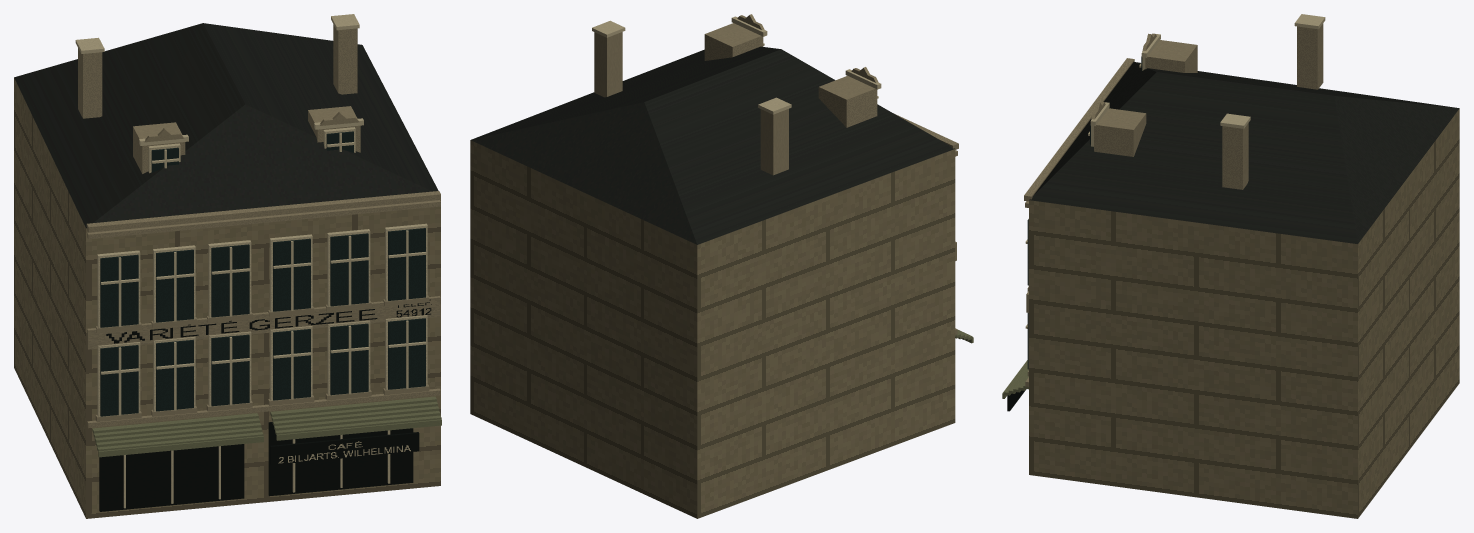
The picture shows the model from 3 angles, left to right: view 1: azimuth 30°, elevation 25°; view 2: azimuth 150°, elevation 25°; view 3: azimuth 270°, elevation 25°; orthographic projection. The views are drawn at different scales.
Parts seen in each view (by area): view 1: gerzee-goudsesingel-1, gerzee-goudsesingel-0, gerzee-goudsesingel-4, gerzee-goudsesingel-2, gerzee-goudsesingel-5, gerzee-goudsesingel-3, gerzee-goudsesingel-6; view 2: gerzee-goudsesingel-0, gerzee-goudsesingel-1, gerzee-goudsesingel-2, gerzee-goudsesingel-3; view 3: gerzee-goudsesingel-0, gerzee-goudsesingel-1, gerzee-goudsesingel-2, gerzee-goudsesingel-3.
Part boxes in pixels (x1,y1,x2,y2): gerzee-goudsesingel-1: (14, 23, 438, 228); gerzee-goudsesingel-0: (14, 78, 440, 518); gerzee-goudsesingel-4: (100, 131, 425, 416); gerzee-goudsesingel-2: (78, 24, 440, 428); gerzee-goudsesingel-5: (99, 299, 431, 511); gerzee-goudsesingel-3: (75, 14, 427, 508); gerzee-goudsesingel-6: (92, 396, 441, 457); gerzee-goudsesingel-0: (470, 140, 955, 518); gerzee-goudsesingel-1: (471, 46, 954, 244); gerzee-goudsesingel-2: (594, 14, 958, 334); gerzee-goudsesingel-3: (592, 16, 881, 114); gerzee-goudsesingel-0: (1029, 109, 1459, 518); gerzee-goudsesingel-1: (1029, 62, 1459, 243); gerzee-goudsesingel-2: (1024, 23, 1323, 386); gerzee-goudsesingel-3: (1025, 14, 1325, 370).
Bounding box in the file's own units: 15.15 × 13.88 × 15.92.
Materials: 7 (7 with a texture image).
